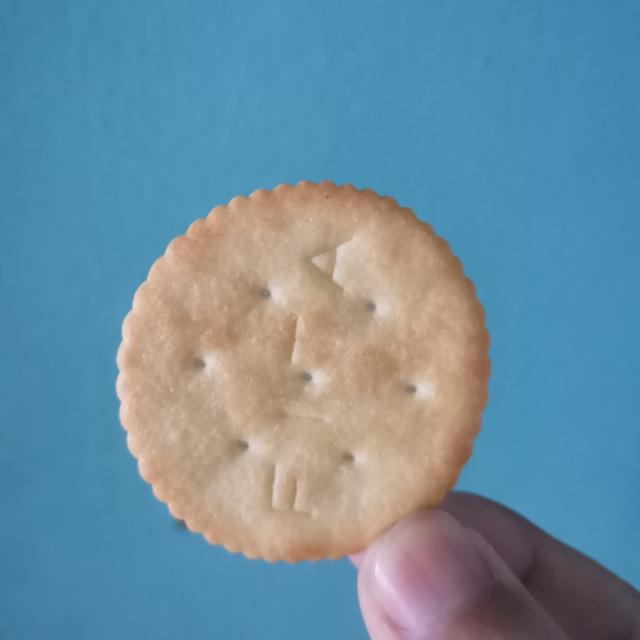Intact: (105, 172, 509, 570)
